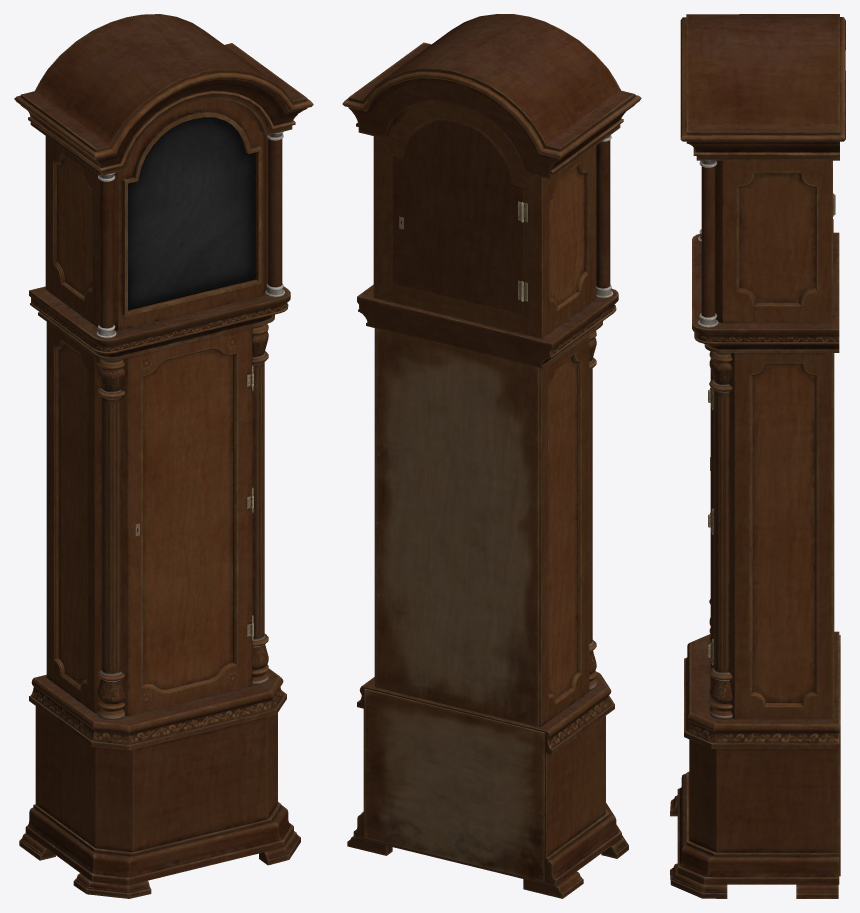
File: vintage_grandfather_clock_01.glb
3 views of the same model, side by side, from view 1: azimuth 30°, elevation 25°; view 2: azimuth 150°, elevation 25°; view 3: azimuth 270°, elevation 25° (orthographic). The views are drawn at different scales.
Visible parts, largest first — view 1: vintage_grandfather_clock_01_Body; view 2: vintage_grandfather_clock_01_Body; view 3: vintage_grandfather_clock_01_Body.
Part boxes in pixels (x1,y1,x2,y2): vintage_grandfather_clock_01_Body: (14, 14, 313, 898); vintage_grandfather_clock_01_Body: (342, 14, 641, 898); vintage_grandfather_clock_01_Body: (670, 14, 845, 898).
Bounding box in the file's own units: 0.6256 × 2.19 × 0.4266.
Materials: 2 (2 with a texture image).
